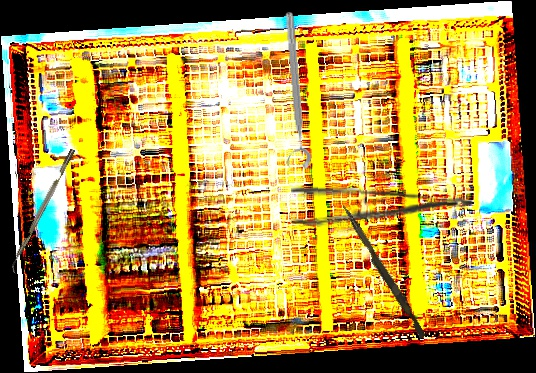Chopper: (6, 148, 82, 275)
Dressing Forceps: (288, 183, 476, 238)
Fixation Ring: (272, 11, 312, 171)
Pusher: (336, 203, 430, 340)
